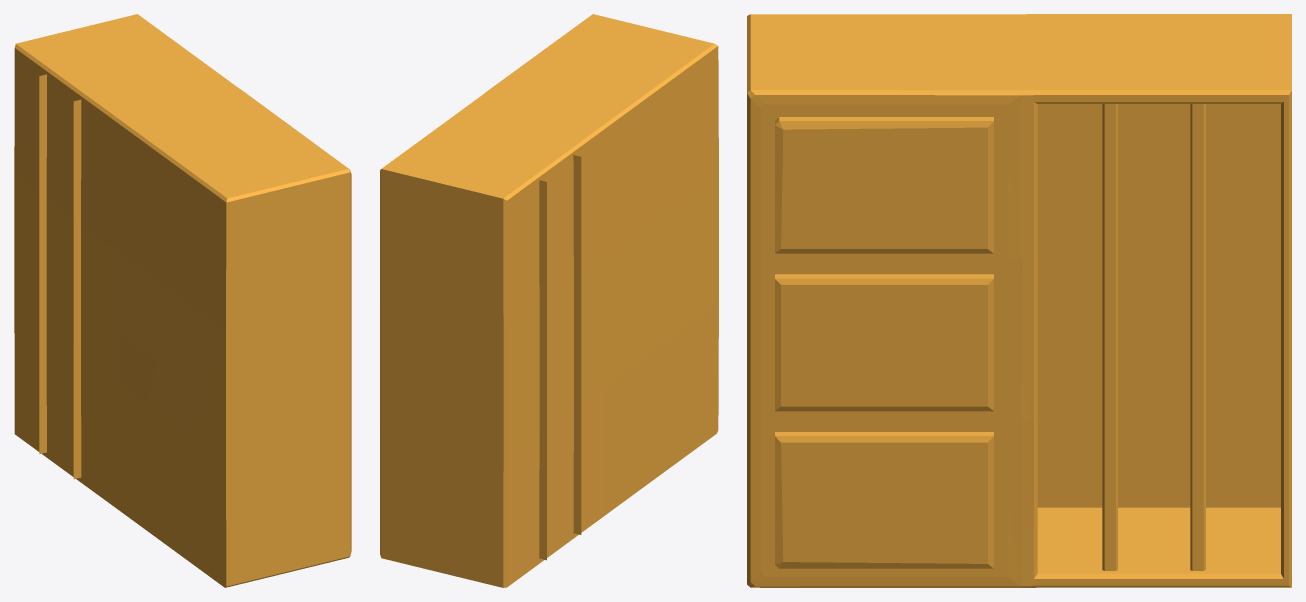
File: rack.fbx
3 views of the same model, side by side, from view 1: azimuth 30°, elevation 25°; view 2: azimuth 150°, elevation 25°; view 3: azimuth 270°, elevation 25° (orthographic). The views are drawn at different scales.
Visible parts, largest first — view 1: wooden storage cabinet; view 2: wooden storage cabinet; view 3: wooden storage cabinet.
Part boxes in pixels (<box>): wooden storage cabinet: <box>14,14,351,587</box>; wooden storage cabinet: <box>380,14,718,587</box>; wooden storage cabinet: <box>747,14,1291,587</box>.
Size of the model in its own units: 0.768 by 2 by 1.98.
Materials: 1 (1 with a texture image).
